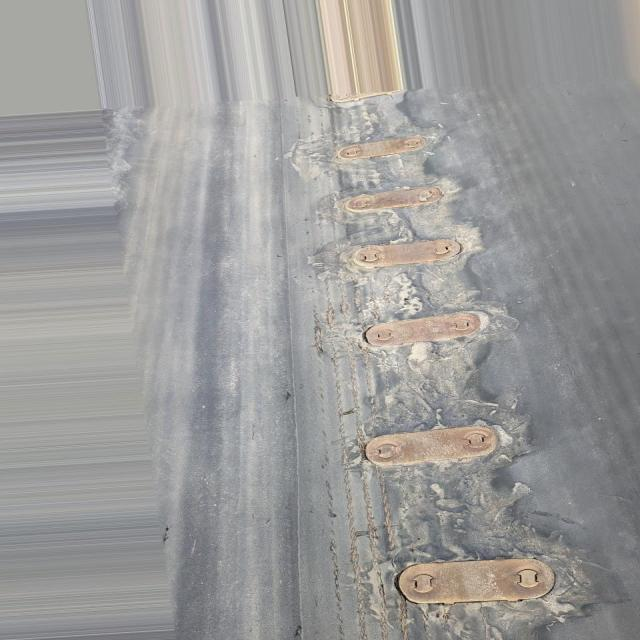patch work: (320, 103, 580, 640)
